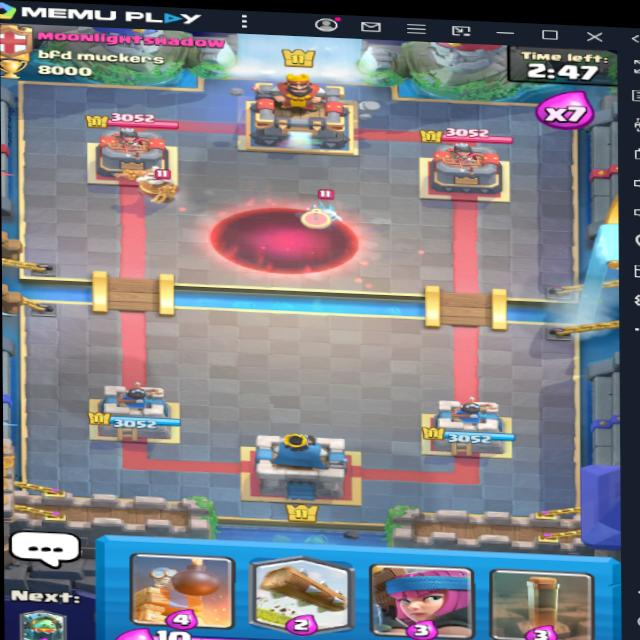ice-spirit: (301, 193, 351, 223)
monk: (110, 155, 189, 205)
void: (213, 202, 360, 276)
